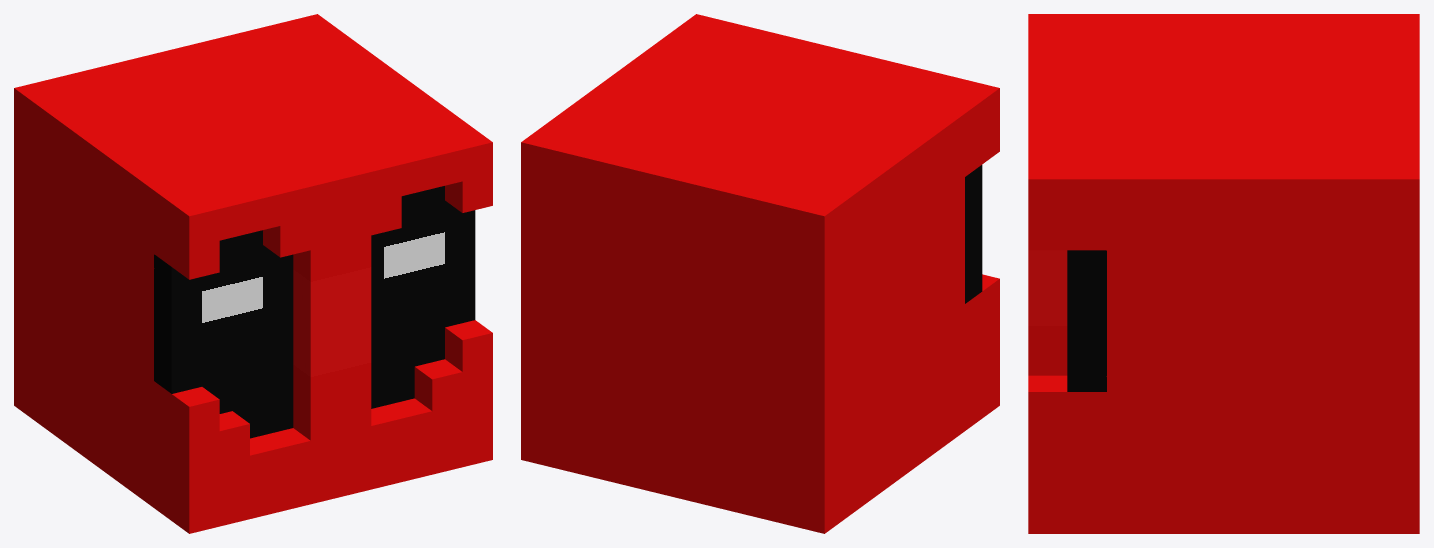
File: Doop.fbx
3 renders of one model, left to right at view 1: azimuth 30°, elevation 25°; view 2: azimuth 150°, elevation 25°; view 3: azimuth 270°, elevation 25°, orthographic. The views are drawn at different scales.
Visible parts, largest first — view 1: Doop; view 2: Doop; view 3: Doop.
Boxes of the visible parts, x1,y1,x2,y2 form: Doop: (14, 14, 492, 533); Doop: (521, 14, 999, 533); Doop: (1028, 14, 1419, 533).
Bounding box in the file's own units: 10 × 10 × 10.
Materials: 1 (1 with a texture image).
